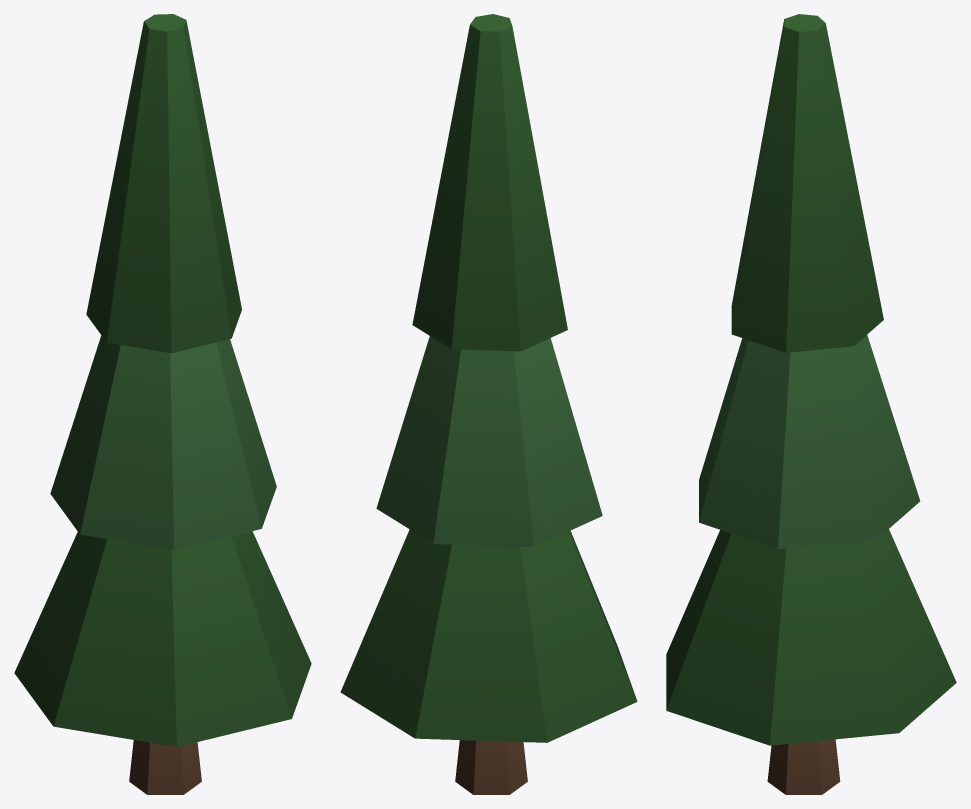
File: tree_N.glb
The picture shows the model from 3 angles, left to right: view 1: azimuth 30°, elevation 25°; view 2: azimuth 150°, elevation 25°; view 3: azimuth 270°, elevation 25°; orthographic projection.
Visible parts, largest first — view 1: tree_N; view 2: tree_N; view 3: tree_N.
Boxes of the visible parts, box(x1,y1,x2,y2) form: tree_N: box(14, 14, 311, 794); tree_N: box(340, 14, 637, 794); tree_N: box(666, 14, 956, 794).
Size of the model in its own units: 0.8189 by 2.3 by 0.7984.
Materials: 1 (1 with a texture image).
